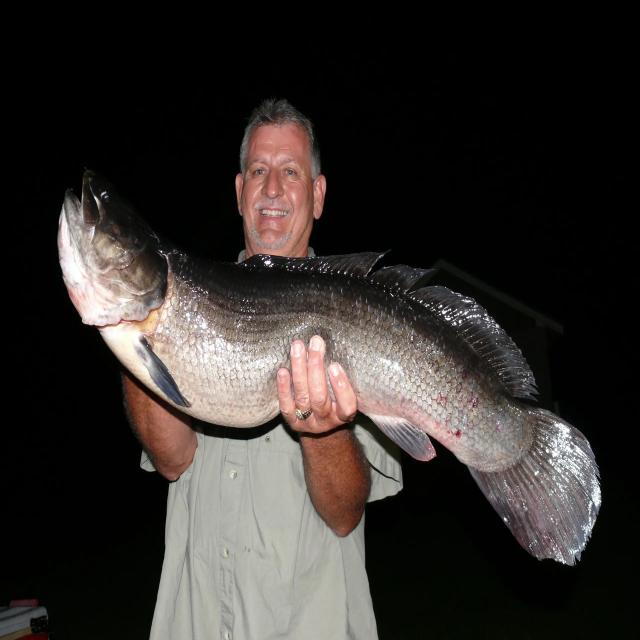Bowfin: (58, 170, 600, 563)
